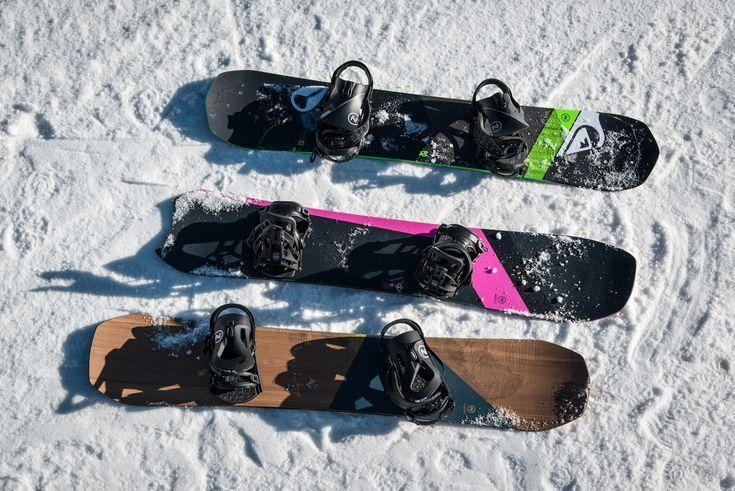Snowboard: (77, 304, 605, 438), (149, 187, 645, 328), (201, 60, 665, 200)
